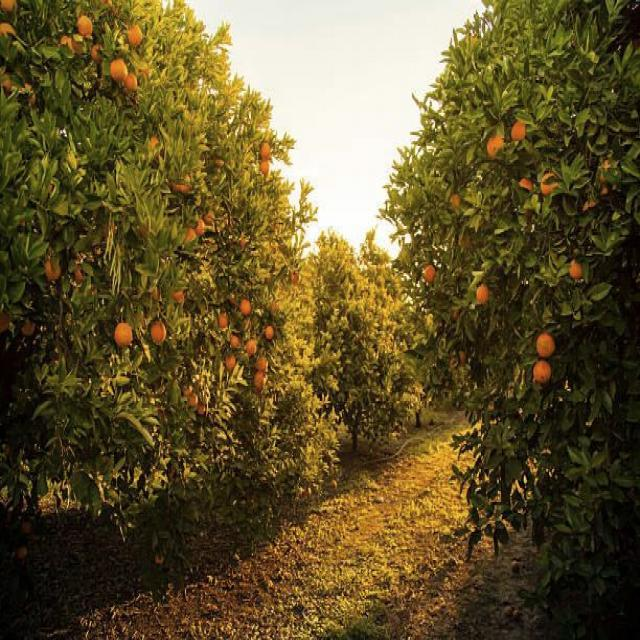Jeruk Sudah Matang: (115, 323, 134, 348), (536, 334, 554, 358), (540, 172, 558, 195), (44, 257, 61, 281), (533, 361, 552, 382), (150, 323, 168, 342), (487, 136, 503, 157), (112, 59, 126, 82), (78, 15, 92, 38), (128, 24, 142, 46), (511, 120, 525, 142), (174, 177, 190, 196), (568, 257, 582, 278), (60, 34, 74, 52), (92, 44, 104, 63), (259, 142, 271, 160), (186, 226, 197, 245), (150, 138, 160, 158), (125, 74, 137, 90), (424, 265, 436, 281), (449, 194, 462, 208), (518, 177, 532, 190), (477, 285, 487, 303), (74, 262, 83, 281), (224, 356, 236, 370), (240, 300, 250, 316), (246, 338, 256, 354), (260, 162, 270, 177), (254, 372, 264, 387), (218, 314, 228, 328), (257, 358, 267, 372), (196, 220, 206, 233), (231, 336, 239, 350), (204, 212, 214, 223), (266, 326, 274, 339), (190, 396, 198, 406), (184, 386, 192, 394)
